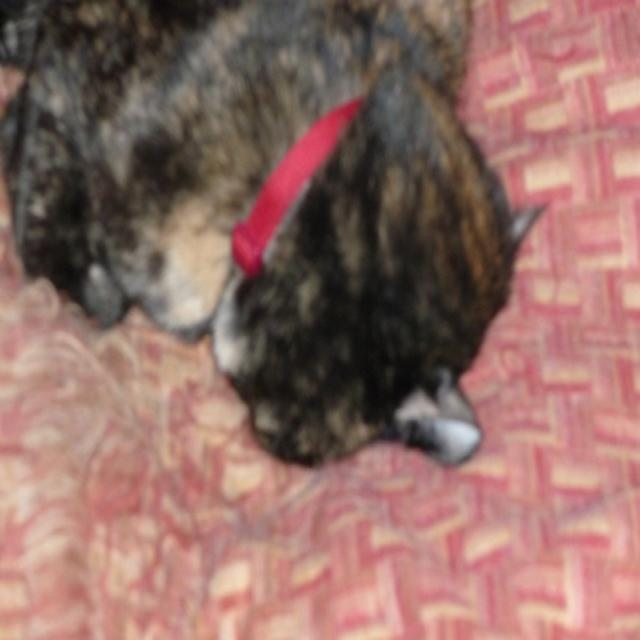dog: (1, 0, 550, 471)
